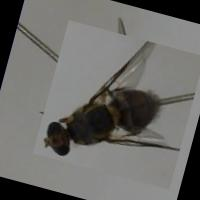Oriental-fruit-fly: (32, 19, 200, 189)
